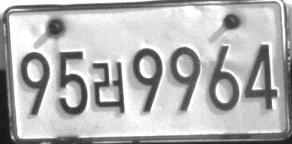4: (244, 43, 278, 110)
5: (57, 50, 88, 115)
6: (207, 44, 239, 111)
9: (169, 45, 201, 112), (131, 47, 163, 113), (20, 51, 50, 116)
러: (91, 61, 125, 114)
